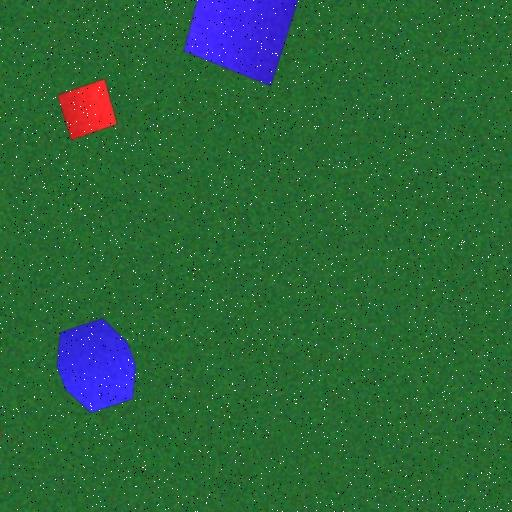BLUE_SQUARE: (183, 0, 300, 86)
RED_SQUARE: (57, 78, 118, 141)
